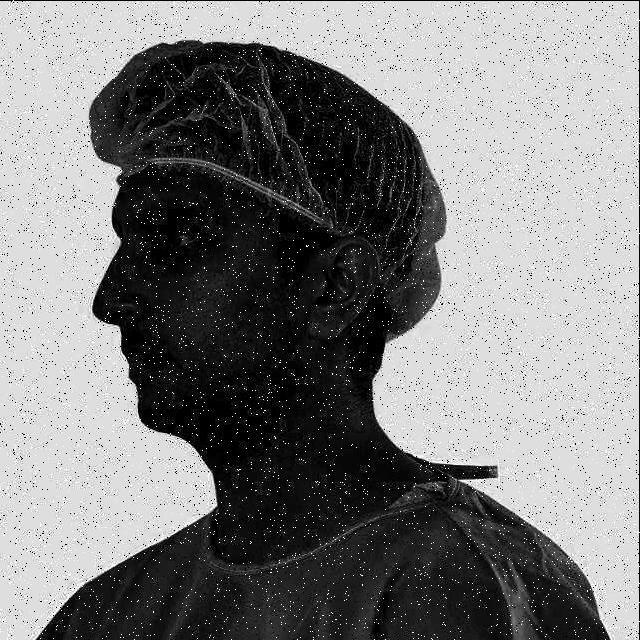gloves: (104, 43, 422, 191)
no_hairnet: (146, 268, 247, 406)
